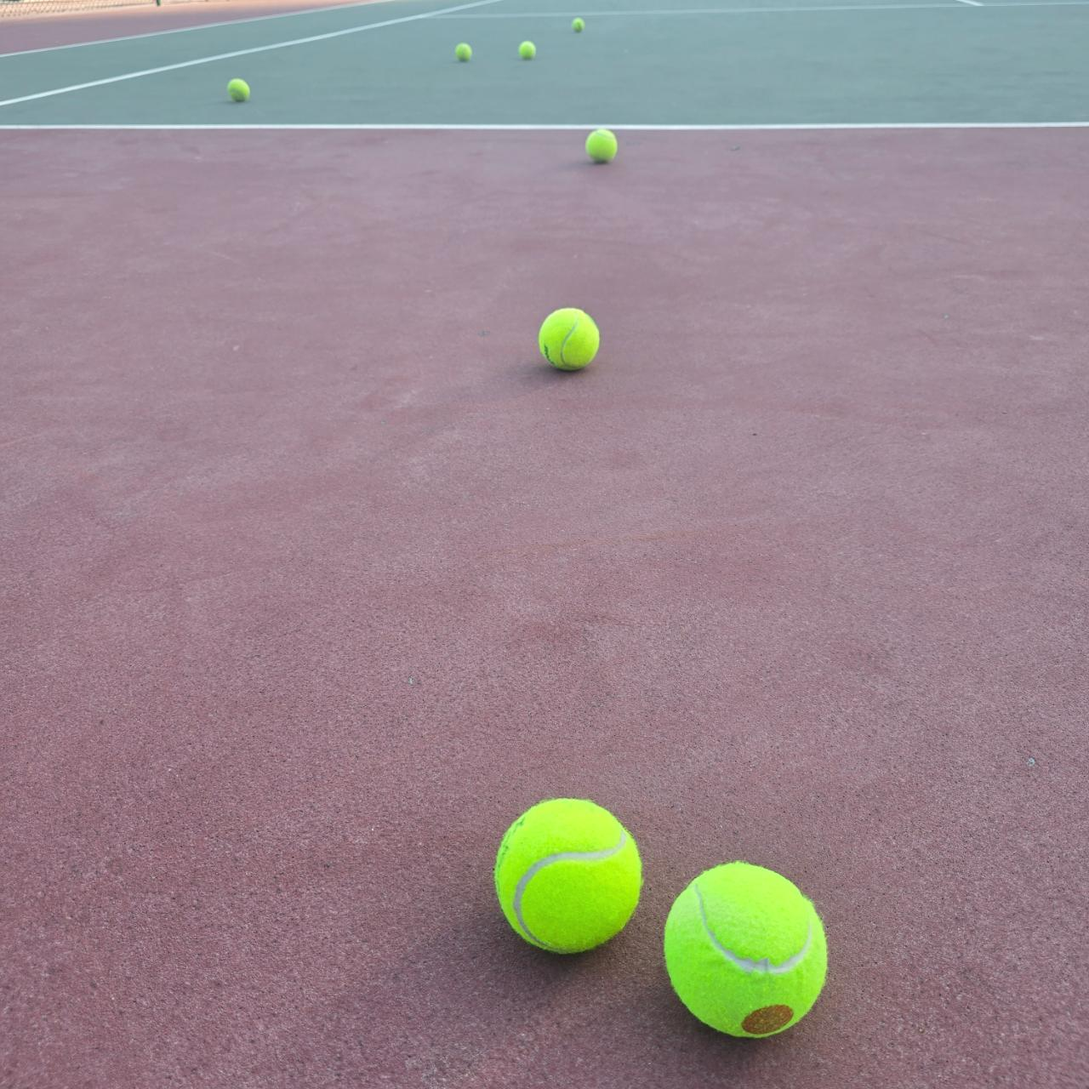tennis-ball: (663, 858, 830, 1040), (493, 794, 645, 955), (538, 305, 602, 371), (585, 126, 620, 162), (227, 78, 250, 103), (455, 43, 473, 63), (519, 41, 536, 60), (571, 18, 584, 33)
